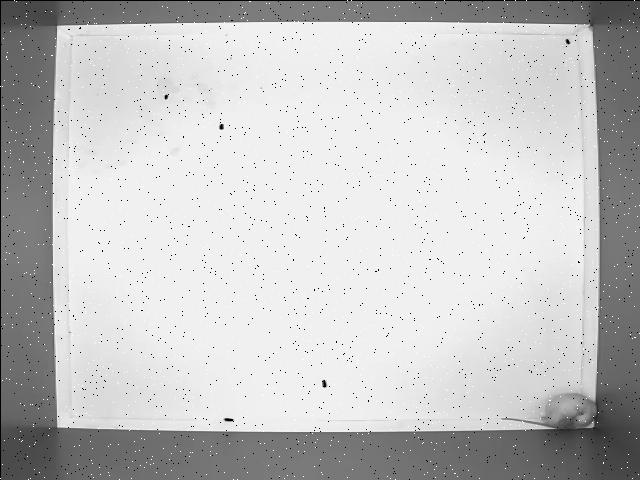Tikus: (498, 391, 596, 431)
